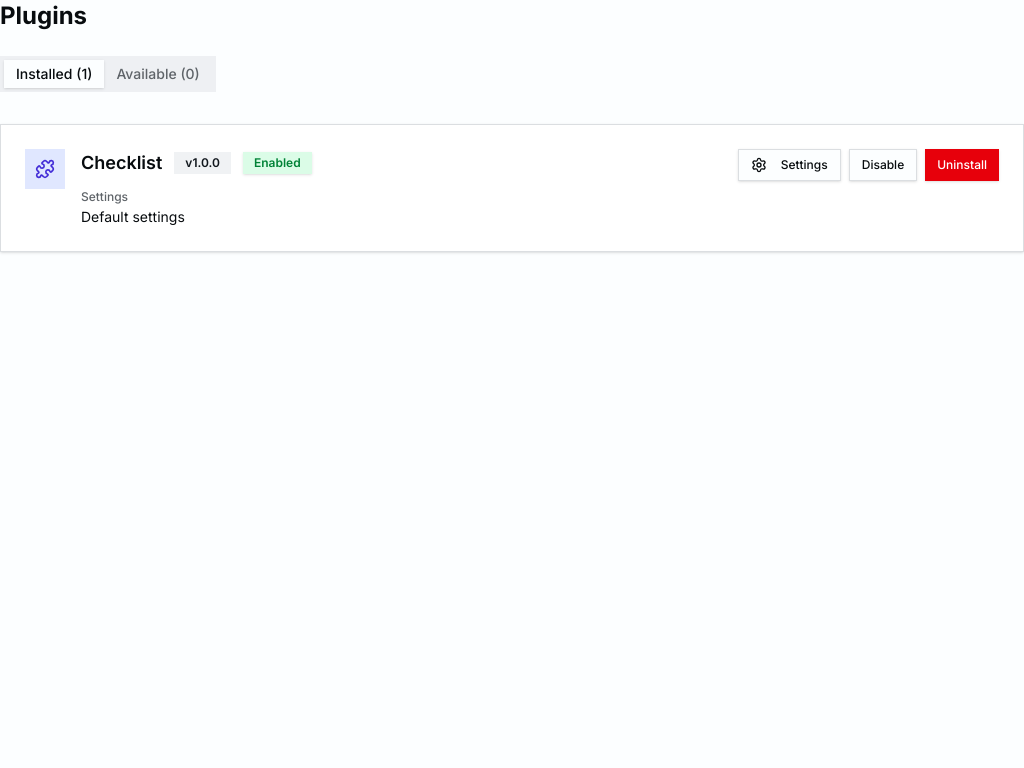
Test: PluginsPage settings › shows a settings action, default summary, and generated form for an installed plugin
Expected: the text "Default settings" is shown, [81,208,185,225]
Click the button "Settings": (789, 165) [738,149,841,181]
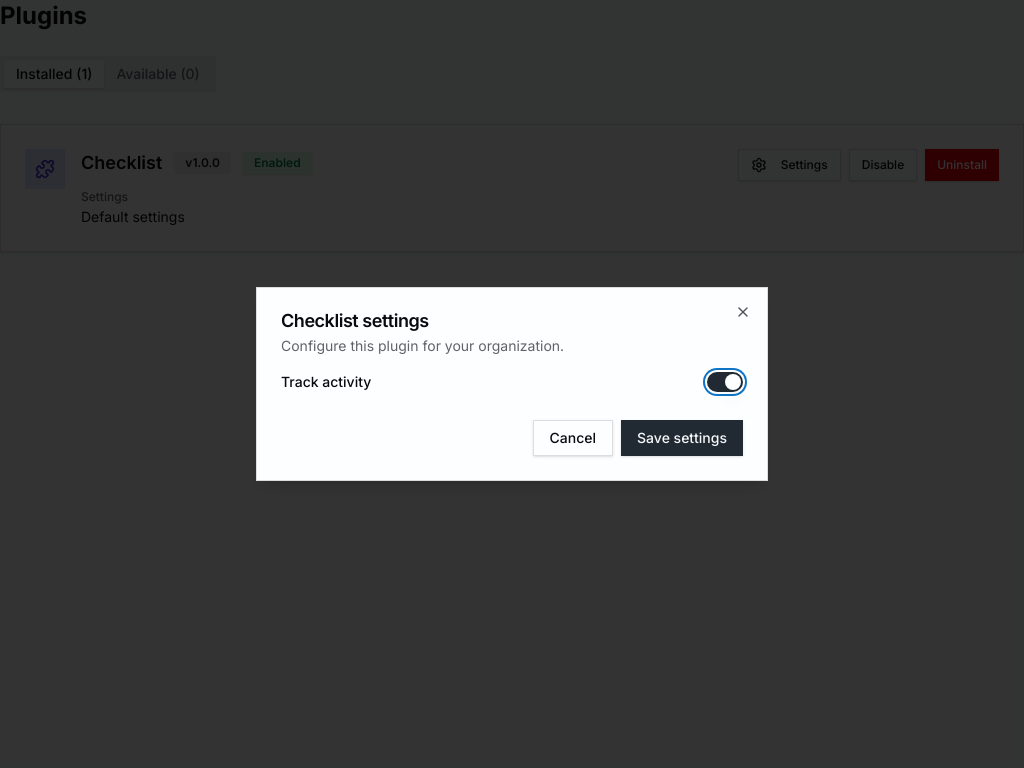
Result: the dialog is shown at [256,287,768,481]
Result: the heading "Checklist settings" is shown at [281,310,429,331]
Result: the switch named "Track activity" is checked at [707,372,743,392]
